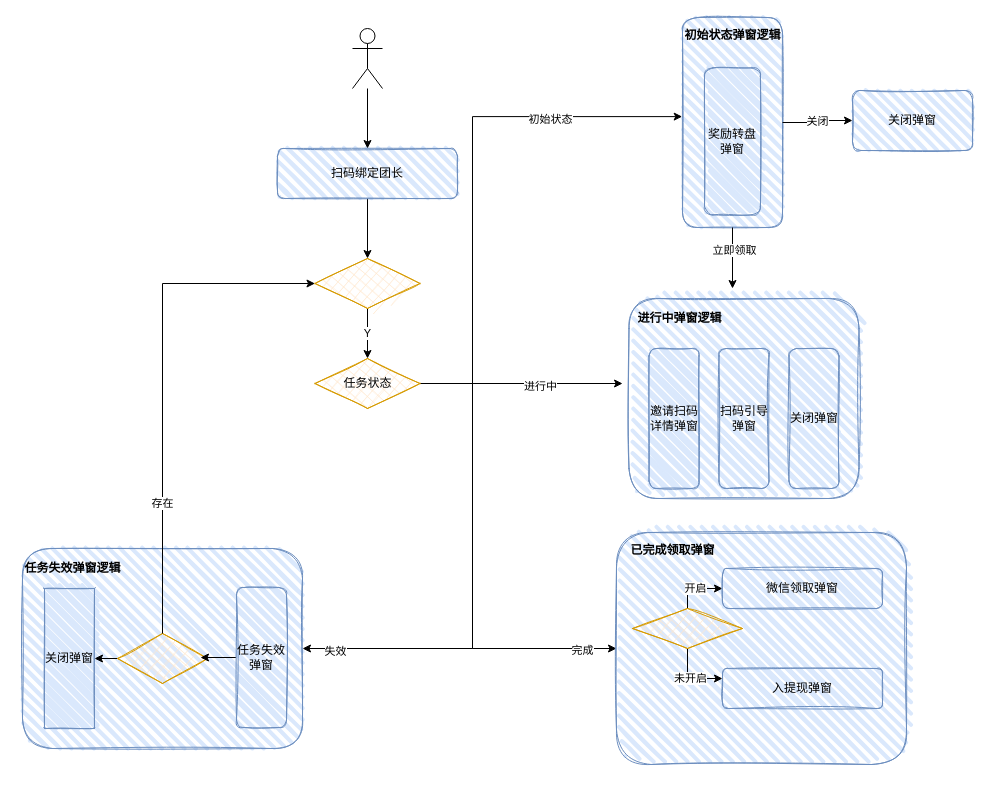
The diagram is 990 pixels wide and 790 high, and some of its shapes have lost their labels. The centre of each missing label's shape, as x and y in pixels:
是否存在下一轮: the point at 162,658
是否开启自动提现: the point at 687,628
有限时扫码任务？: the point at 367,283
线下用户: the point at 367,58
